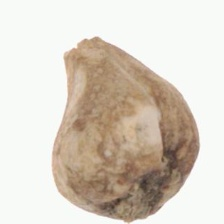L1: (88, 199, 169, 224), (62, 35, 106, 58)
L2: (51, 36, 200, 224)
